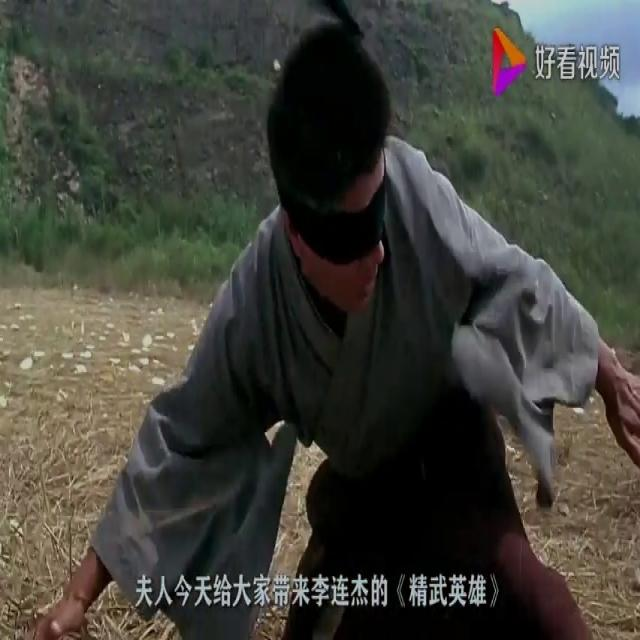non-fight: (31, 5, 640, 639)
